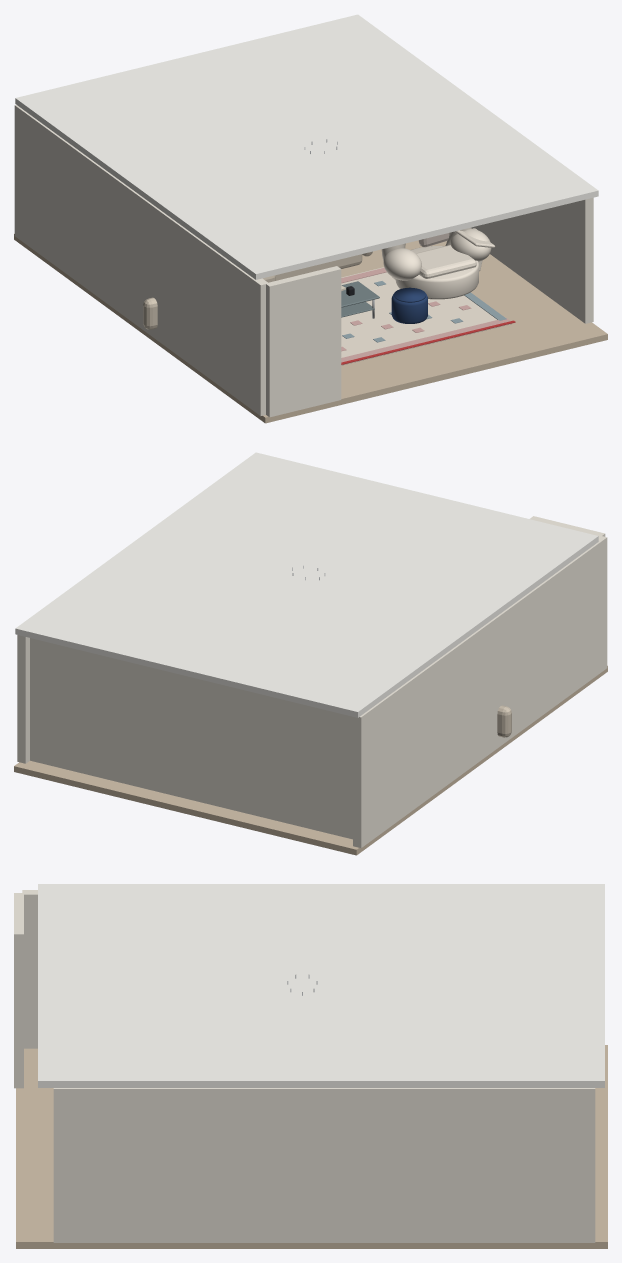
The model's file is kimi.glb.
The picture shows the model from 3 angles, top to bottom: view 1: azimuth 30°, elevation 25°; view 2: azimuth 150°, elevation 25°; view 3: azimuth 270°, elevation 25°; orthographic projection. The views are drawn at different scales.
Parts seen in each view (by area): view 1: ceiling slab, left wall, floor slab, front left reveal, right wall, area rug base, round chair base, round chair seat cushion, round chair left arm, rug end border -3.28, navy pouf, round chair right arm (+3 smaller); view 2: ceiling slab, back kitchen wall, left wall, floor slab, right wall; view 3: ceiling slab, right wall, floor slab, left wall, front left reveal.
Part boxes in pixels (<box>): ceiling slab: <box>15,14,598,279</box>; left wall: <box>14,105,267,415</box>; floor slab: <box>14,233,607,423</box>; front left reveal: <box>265,266,341,417</box>; right wall: <box>471,197,593,323</box>; area rug base: <box>341,267,512,365</box>; round chair base: <box>395,246,478,299</box>; round chair seat cushion: <box>416,245,476,278</box>; round chair left arm: <box>383,248,421,280</box>; rug end border -3.28: <box>341,318,510,362</box>; navy pouf: <box>391,294,427,323</box>; round chair right arm: <box>450,228,491,261</box>; ceiling slab: <box>15,452,598,717</box>; back kitchen wall: <box>30,638,352,839</box>; left wall: <box>353,535,607,847</box>; floor slab: <box>14,665,607,855</box>; right wall: <box>17,635,29,763</box>; ceiling slab: <box>38,884,604,1087</box>; right wall: <box>53,1088,595,1242</box>; floor slab: <box>16,1045,607,1248</box>; left wall: <box>22,890,37,1048</box>; front left reveal: <box>14,893,23,1088</box>.
Bounding box in the file's own units: 7.7 × 3.1 × 9.43.
